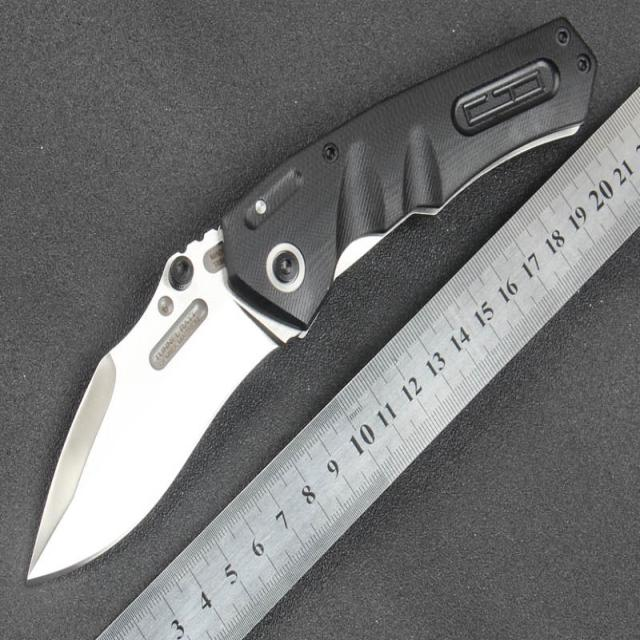knife: (24, 15, 606, 604)
